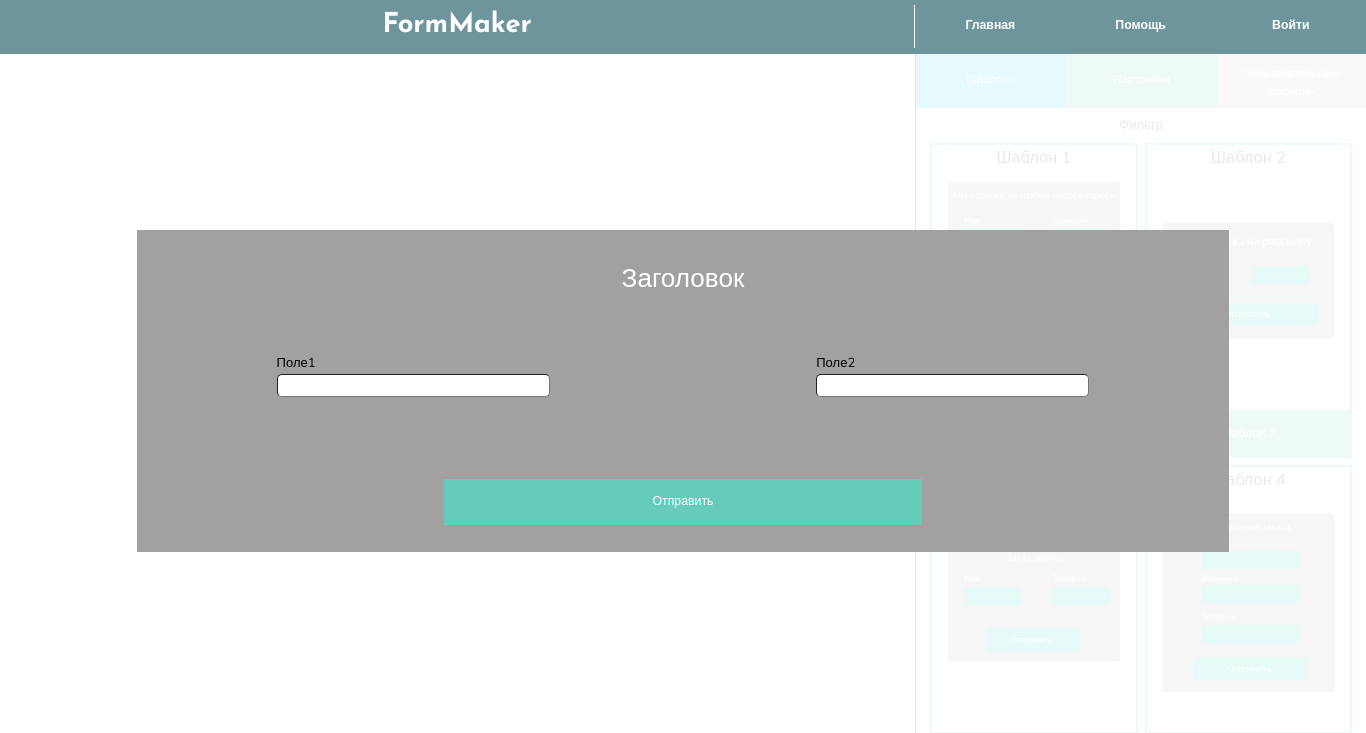
Scenario: header › clickToLink
Step 1. Click the link "Помощь" → {"x": 1141, "y": 26}, box [1115,20,1166,32]
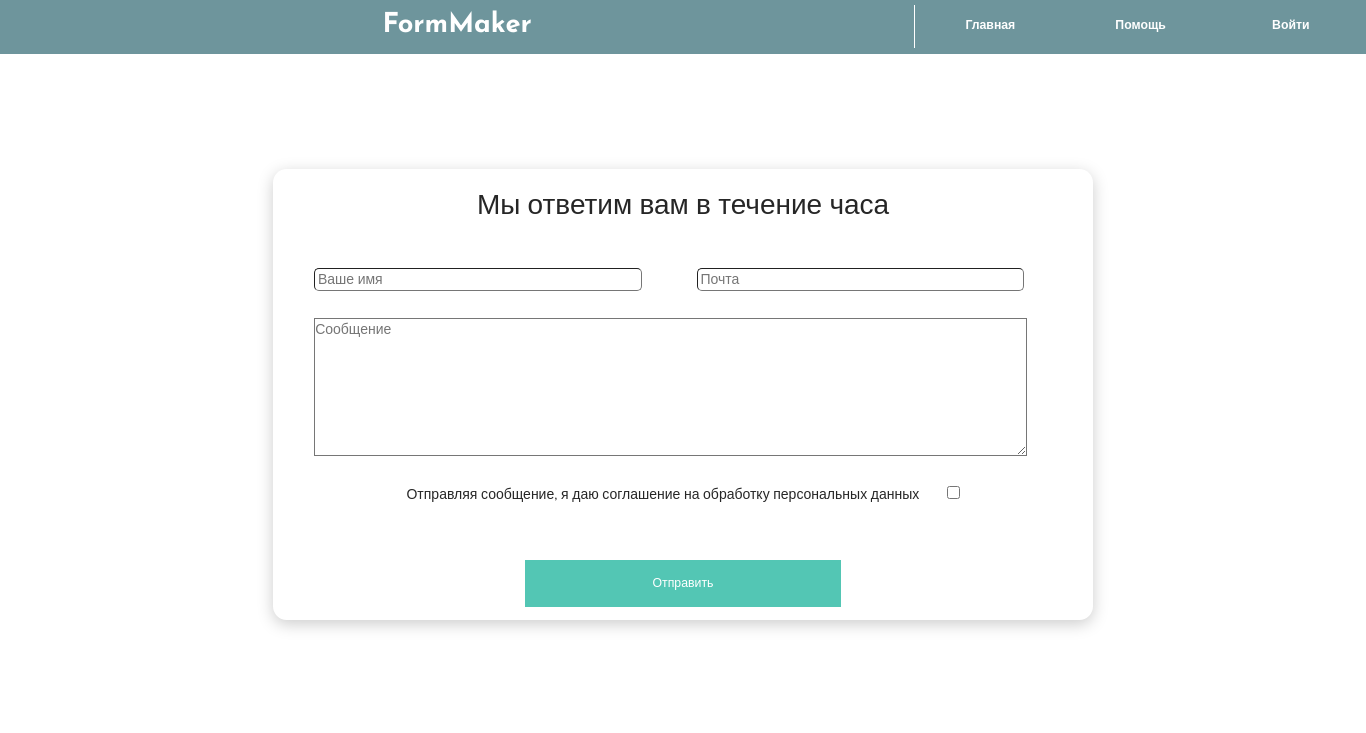
Expected: the text "я даю соглашение" is shown, [406,485,919,504]
Step 2. Click the link "Войти" → {"x": 1291, "y": 26}, box [1272,20,1310,32]
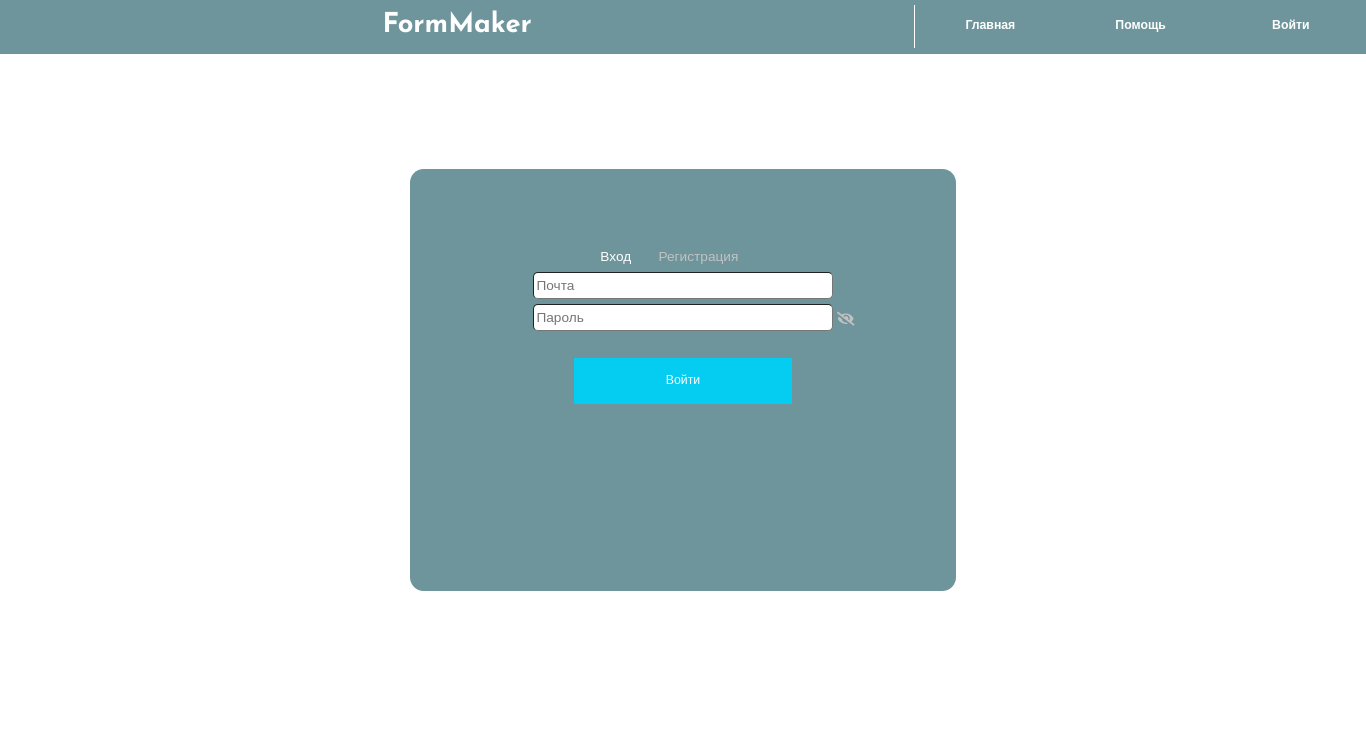
Expected: the heading "Регистрация" is shown, [658,247,738,266]
